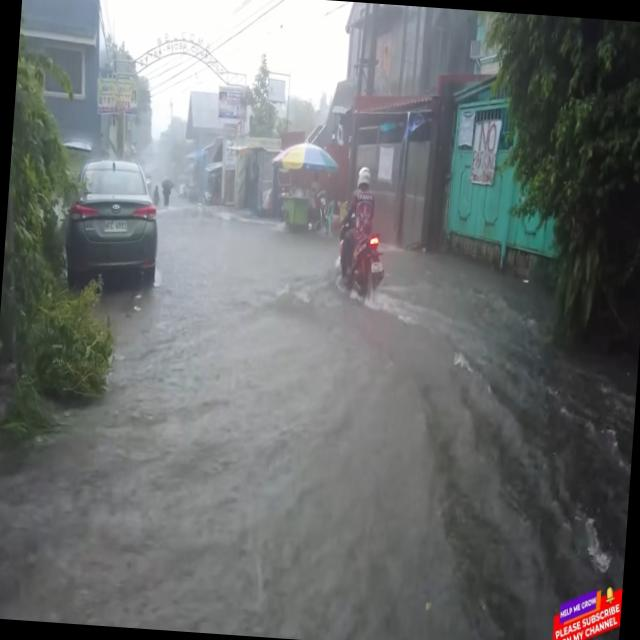full: (352, 156, 376, 198)
